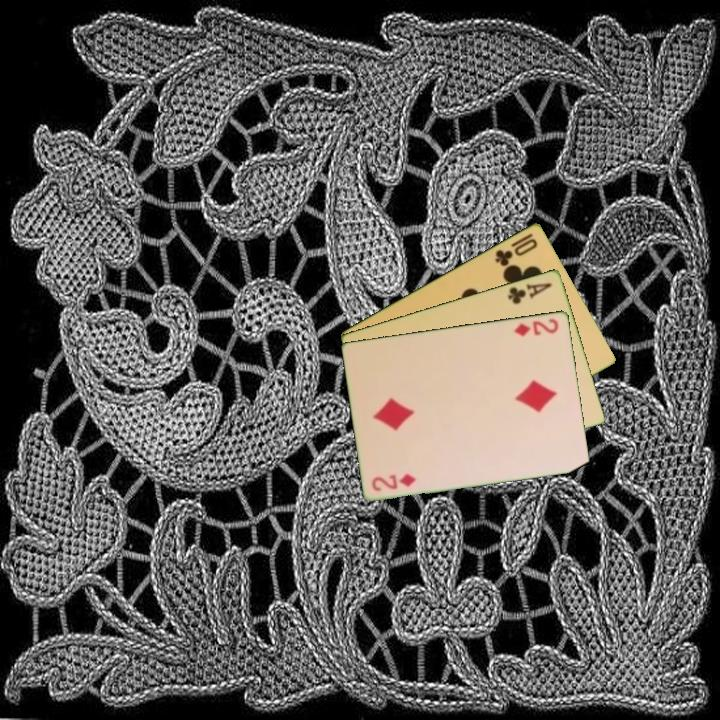10c: (491, 234, 541, 269)
2d: (368, 470, 419, 494), (511, 315, 561, 339)
Ac: (504, 279, 555, 307)
